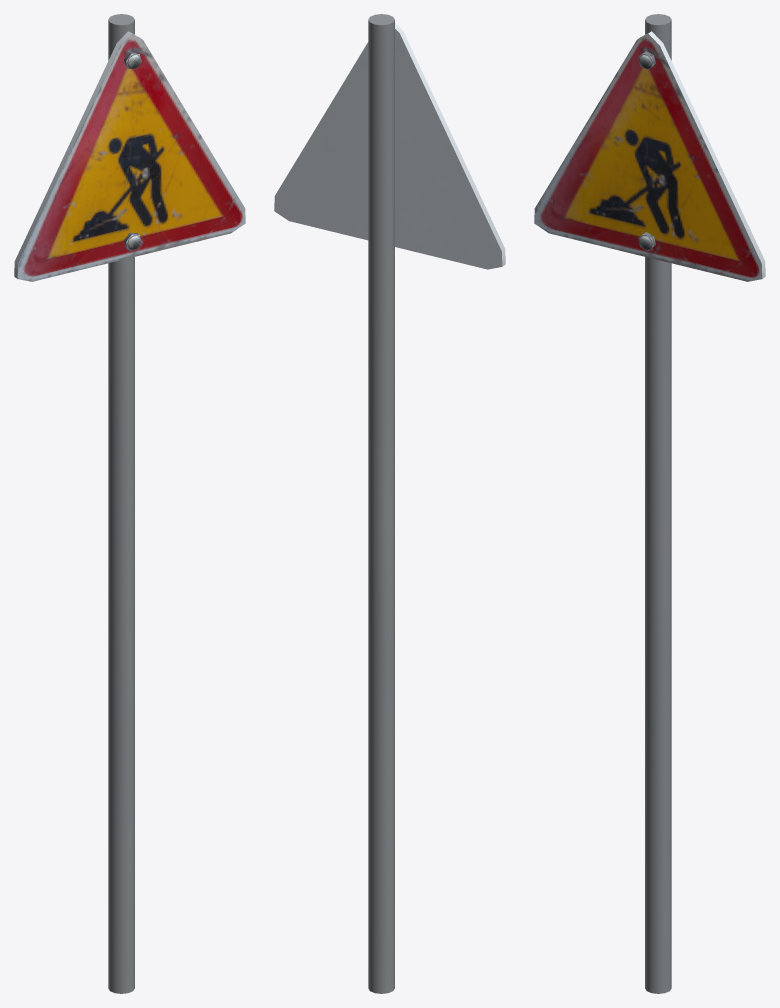
Rendered from StreetSigns_1.fbx.
The picture shows the model from 3 angles, left to right: view 1: azimuth 30°, elevation 25°; view 2: azimuth 150°, elevation 25°; view 3: azimuth 330°, elevation 25°; orthographic projection.
Visible parts, largest first — view 1: StreetSigns_1; view 2: StreetSigns_1; view 3: StreetSigns_1.
Part boxes in pixels (box(x1,y1,x2,y2)): StreetSigns_1: box(14, 14, 245, 993); StreetSigns_1: box(274, 14, 505, 993); StreetSigns_1: box(534, 14, 765, 993).
Size of the model in its own units: 0.9863 by 4 by 0.1493.
